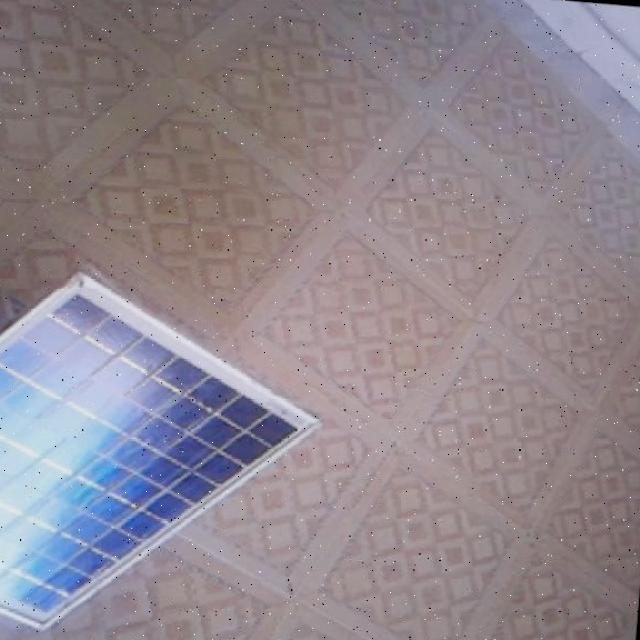Normal Solar Panel: (0, 256, 345, 640)
